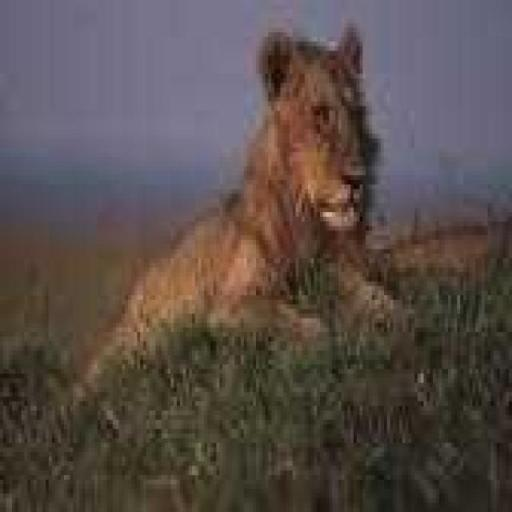Lion: (76, 23, 396, 401)
